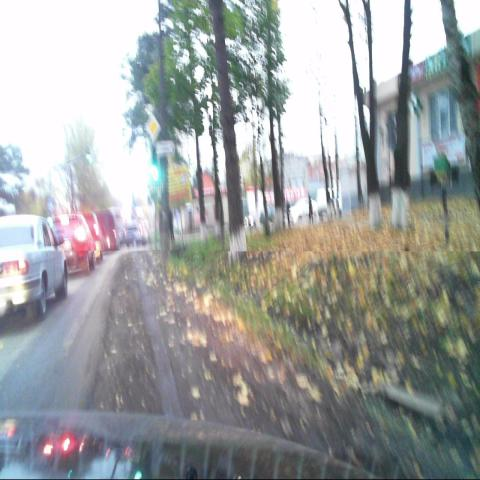2_1: (146, 116, 162, 140)
